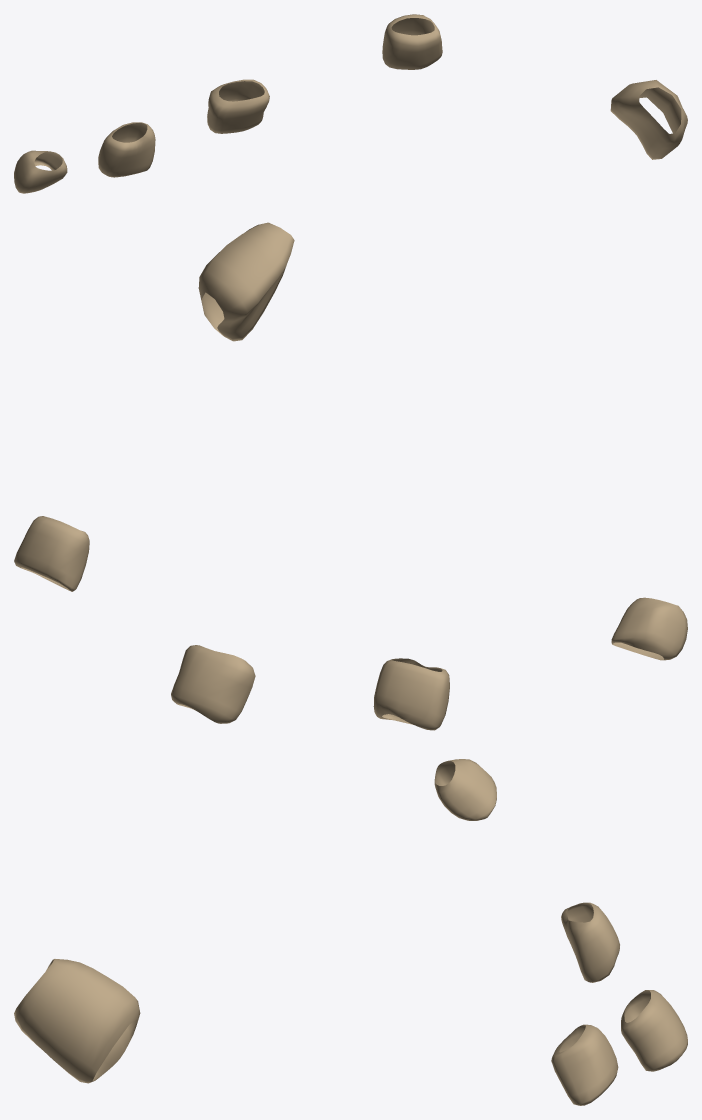
3 renders of one model, top to bottom at view 1: azimuth 30°, elevation 25°; view 2: azimuth 150°, elevation 25°; view 3: azimuth 270°, elevation 25°, orthographic. The views are drawn at different scales.
Parts seen in each view (by area): view 1: 左侧手远侧指间关节囊; view 2: 左侧手远侧指间关节囊; view 3: 左侧手远侧指间关节囊.
Boxes of the visible parts, x1,y1,x2,y2 form: 左侧手远侧指间关节囊: (14,14,687,193); 左侧手远侧指间关节囊: (14,222,687,730); 左侧手远侧指间关节囊: (14,759,687,1105).
Size of the model in its own units: 0.1552 by 0.0487 by 0.1353.
